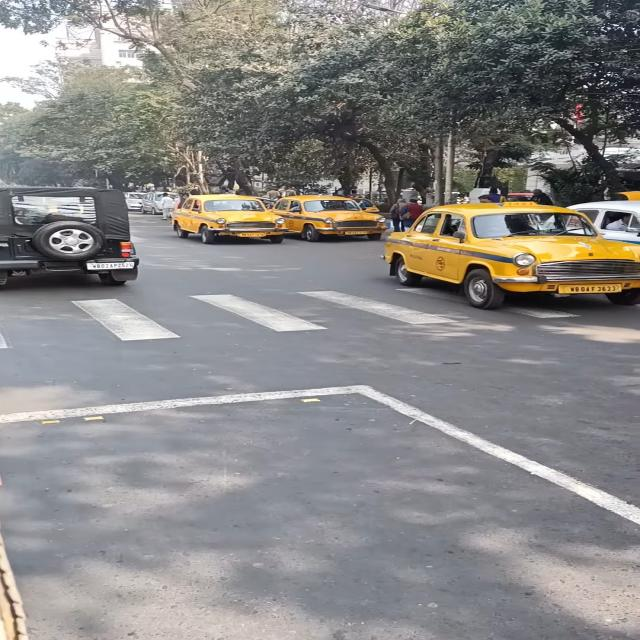Taxi: (380, 195, 640, 309), (164, 187, 296, 253), (282, 193, 405, 242)
